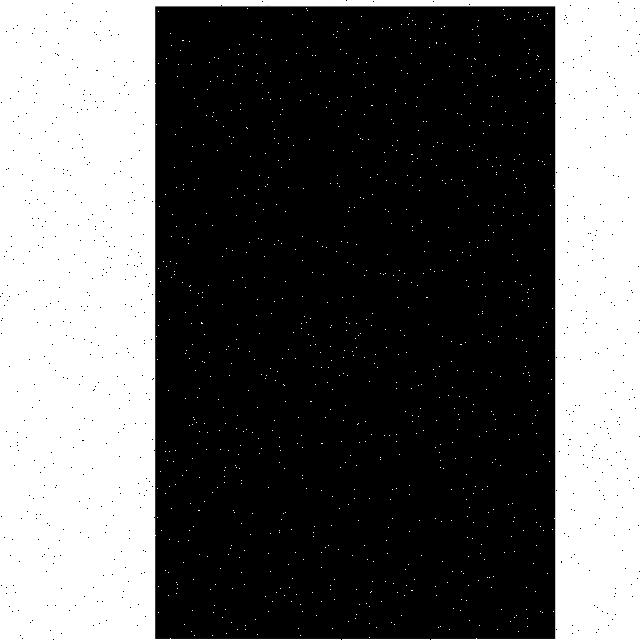Sweet_Potato: (155, 6, 555, 640)
